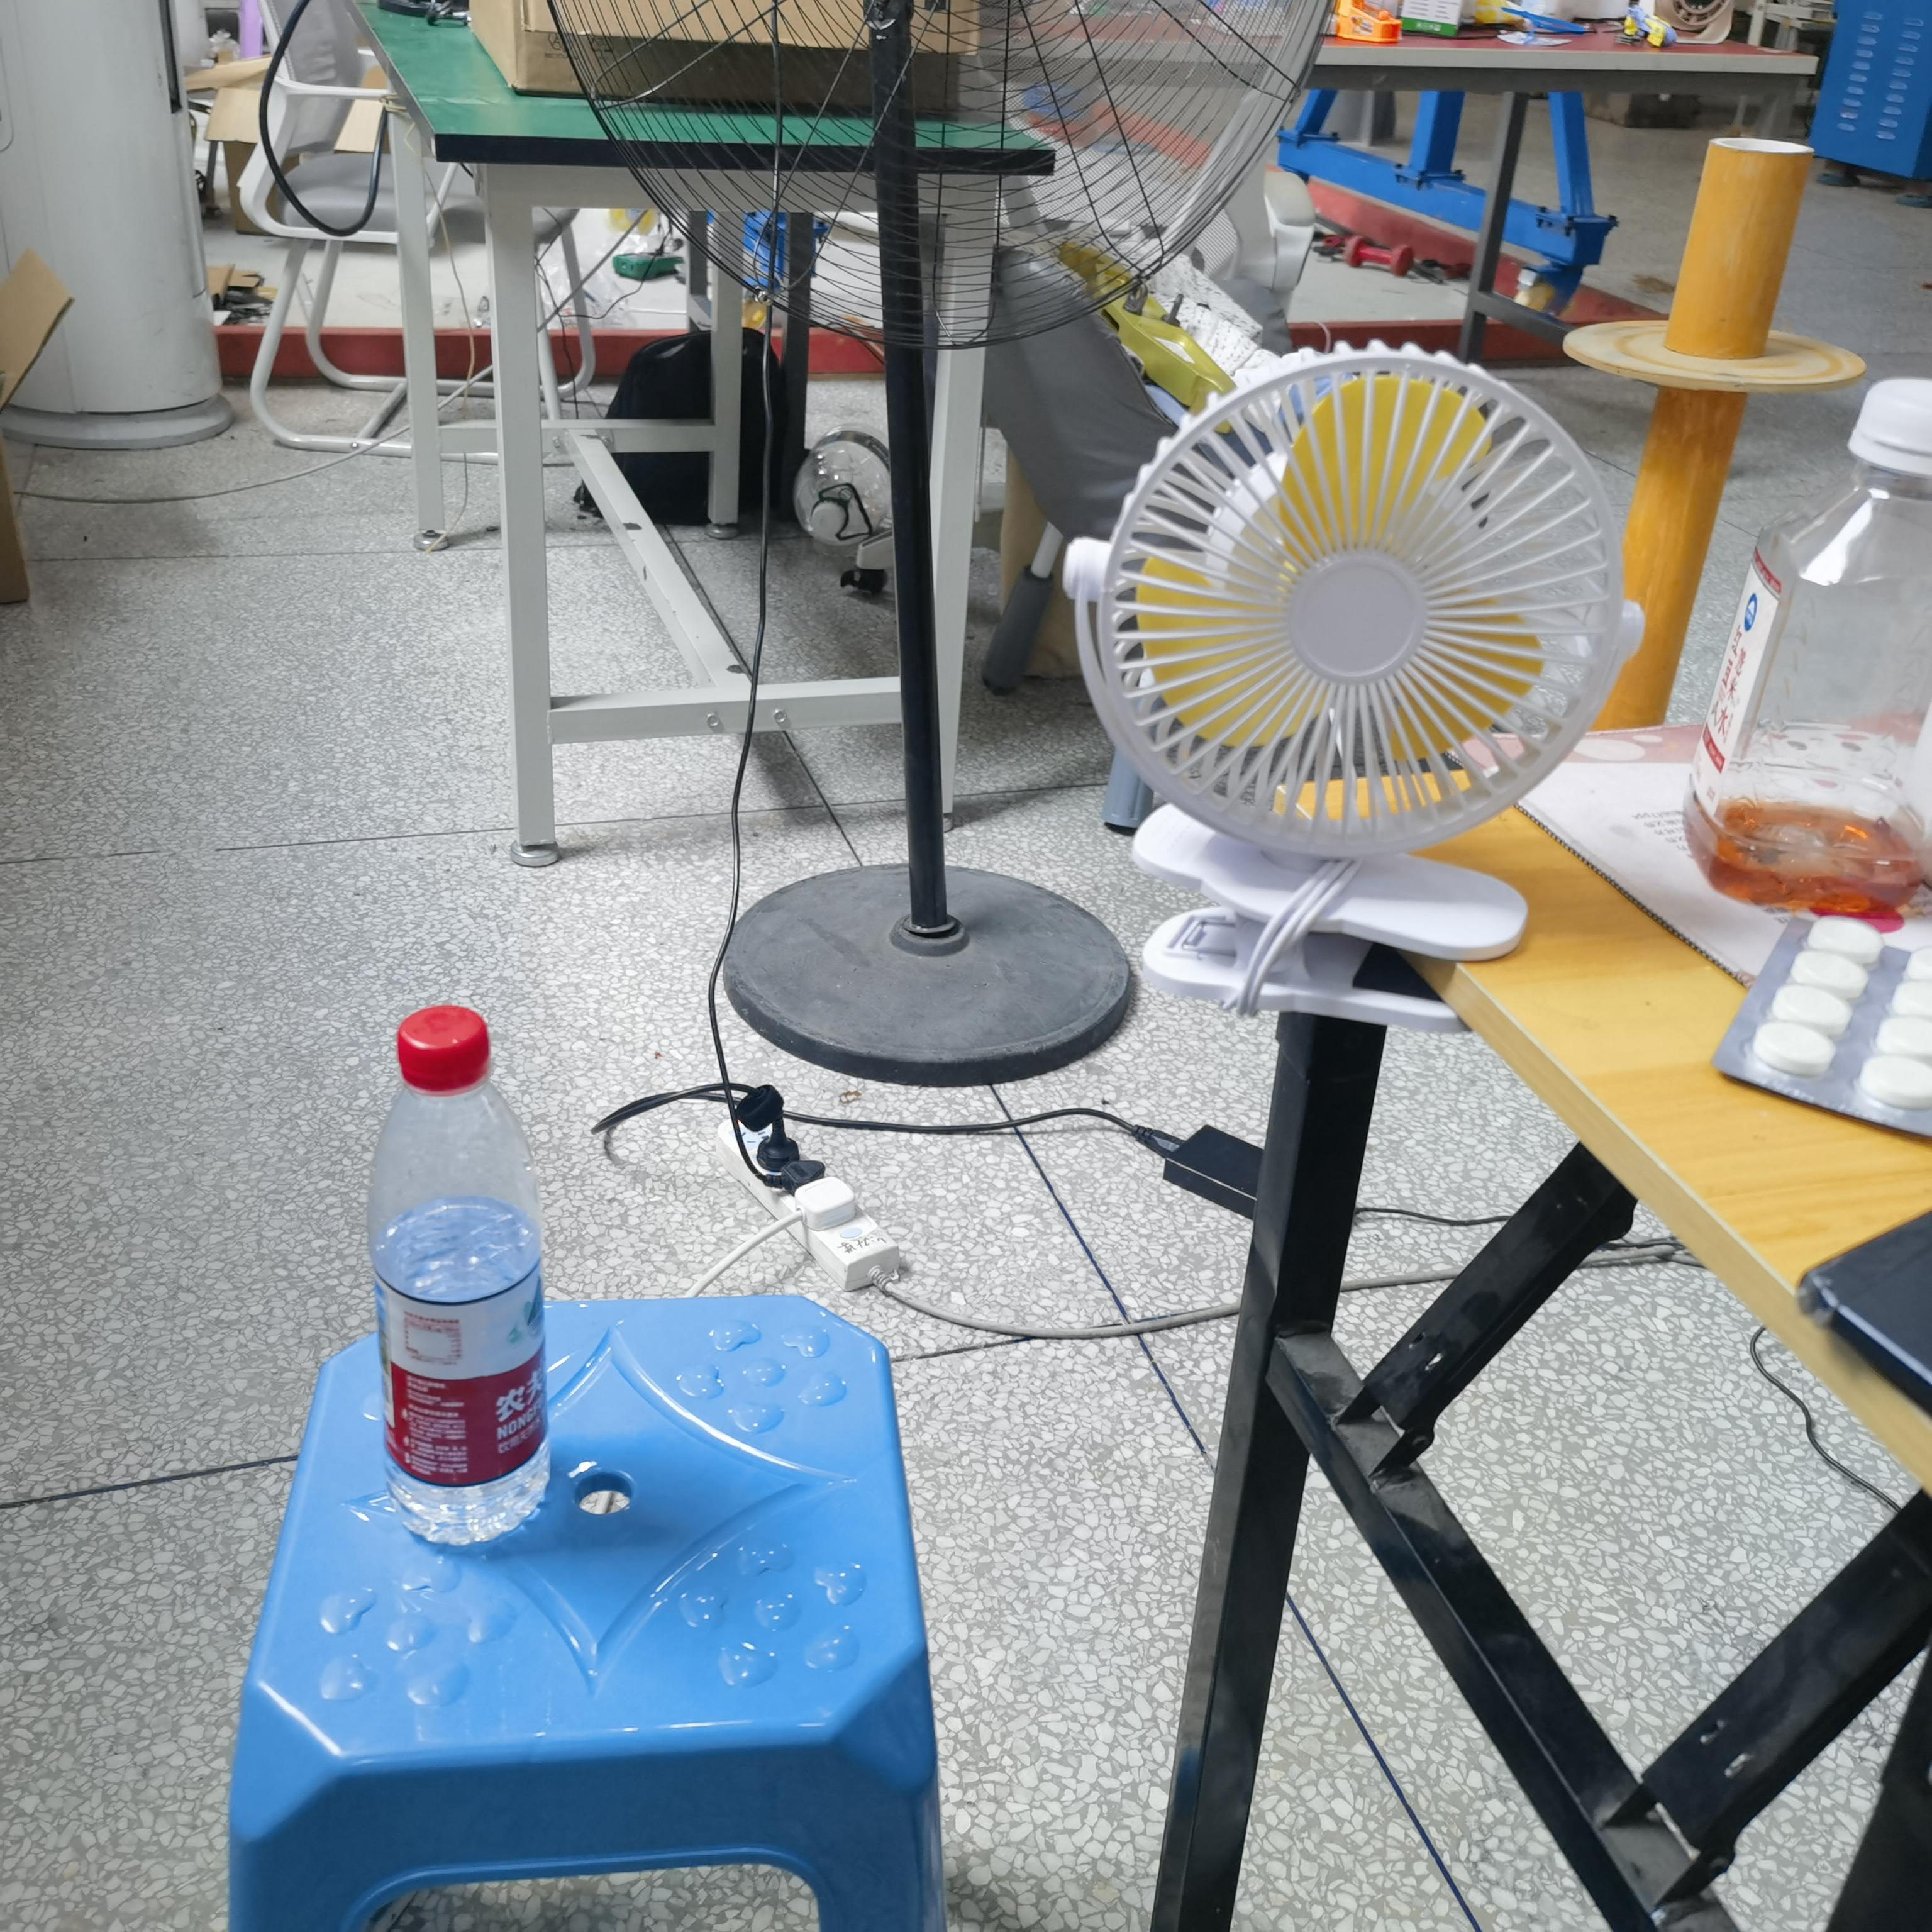bottle: (365, 998, 551, 1560)
fan: (1057, 341, 1653, 1045)
